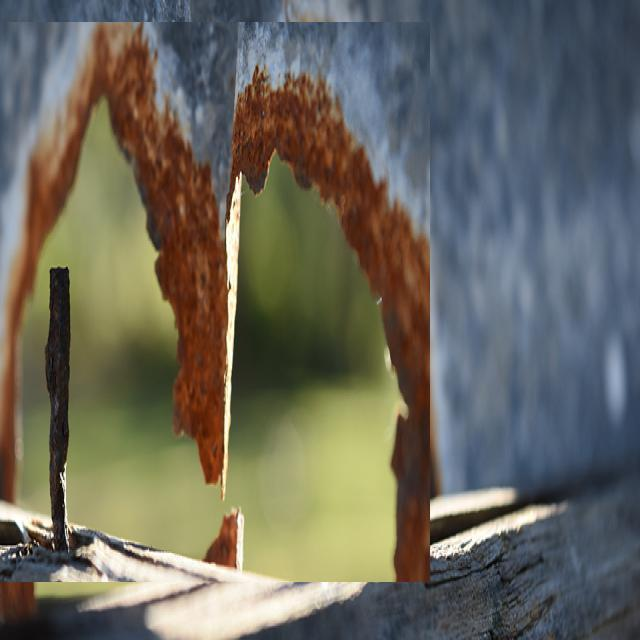Corrosion: (233, 66, 433, 582), (68, 25, 242, 486), (22, 119, 86, 288), (203, 510, 244, 572)
